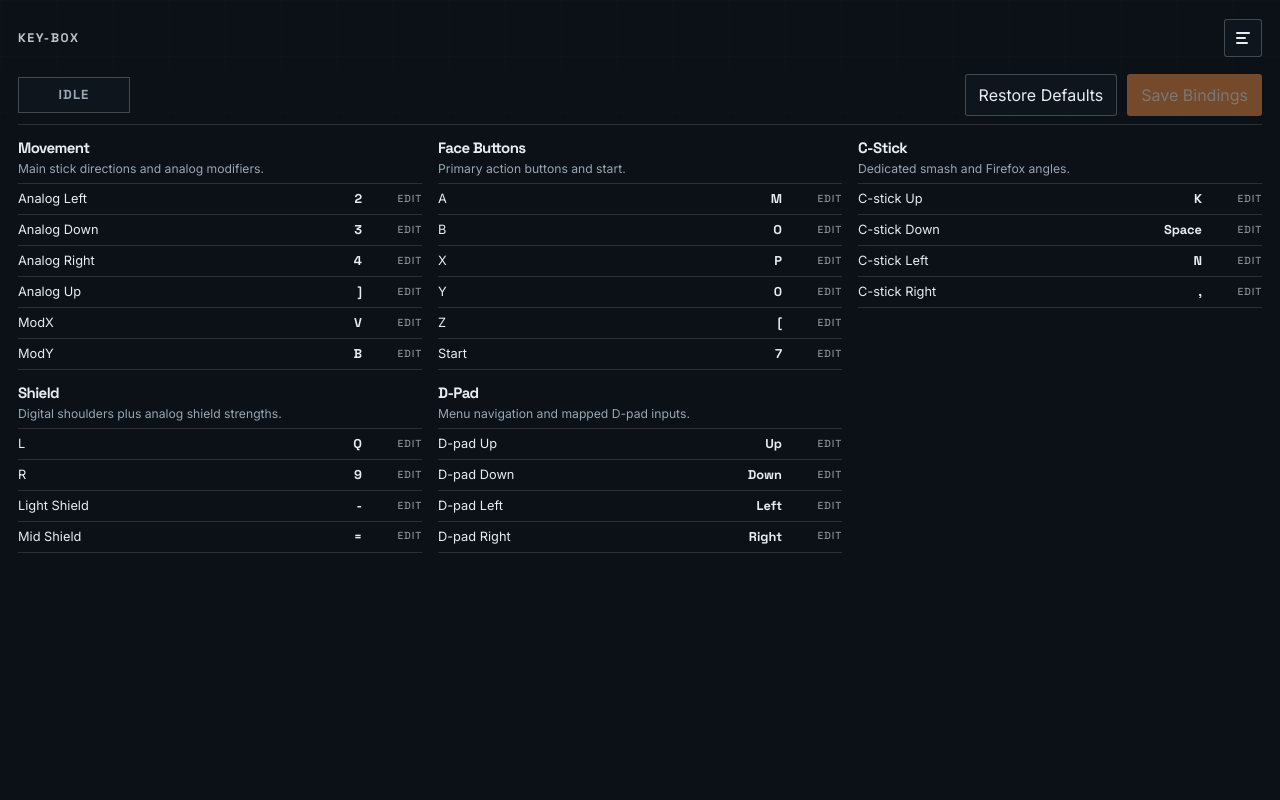
Scenario: App › explains the held-direction tradeoff in SOCD settings
Click the button named "Open settings" at (1243, 38), box [1224,19,1262,57]
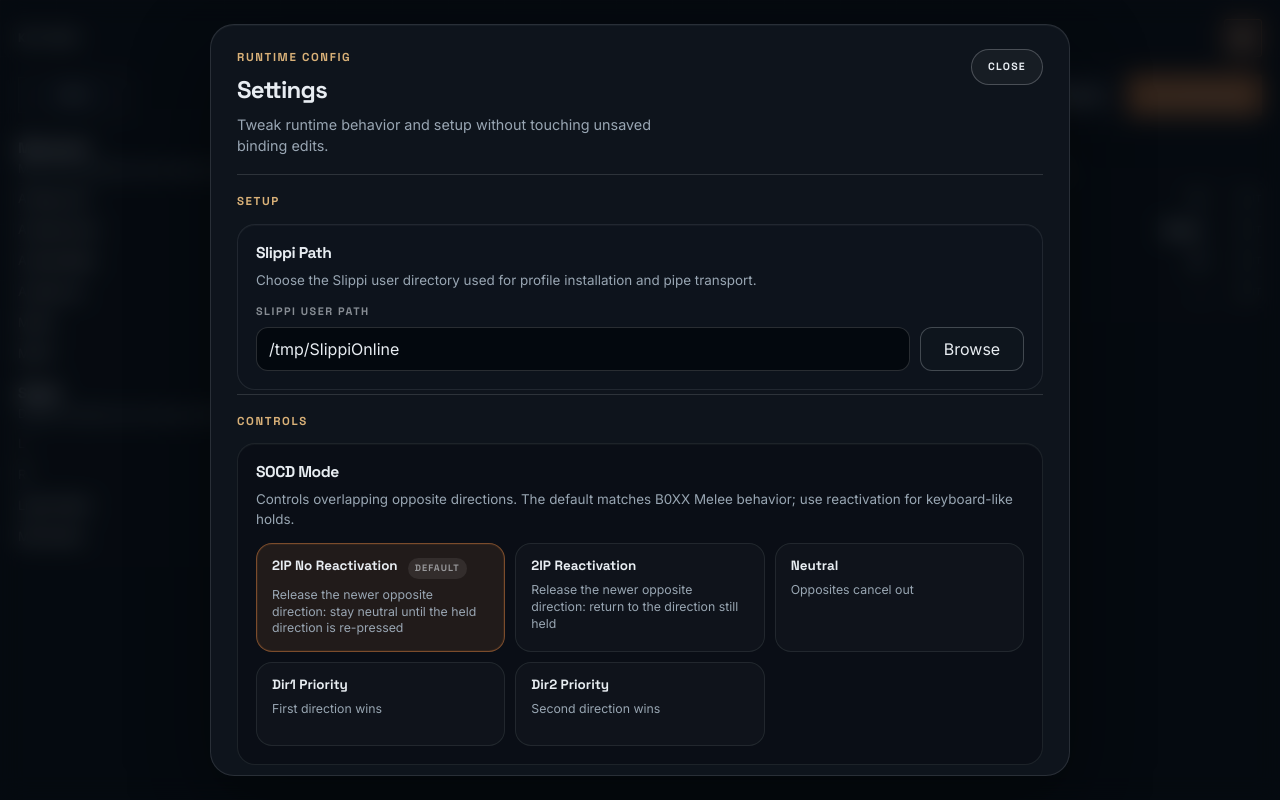
Result: the text "2IP No Reactivation" is shown at [272,558,398,574]
Result: the text "2IP Reactivation" is shown at [531,558,636,574]
Result: the text "Release the newer opposite direction: return to the direction still held" is shown at [531,582,749,632]
